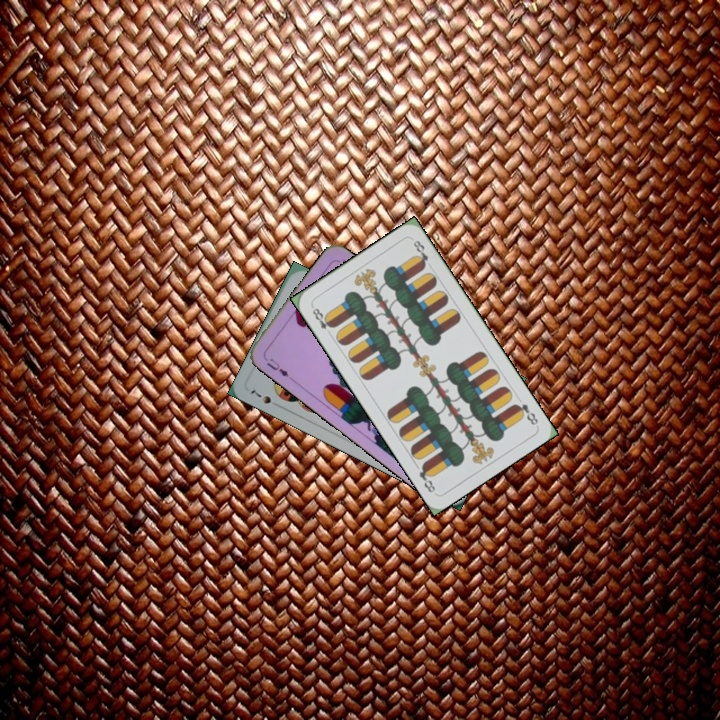E8: (308, 302, 337, 338), (510, 400, 541, 428)
EU: (260, 354, 295, 382)
S7: (246, 386, 283, 410)
